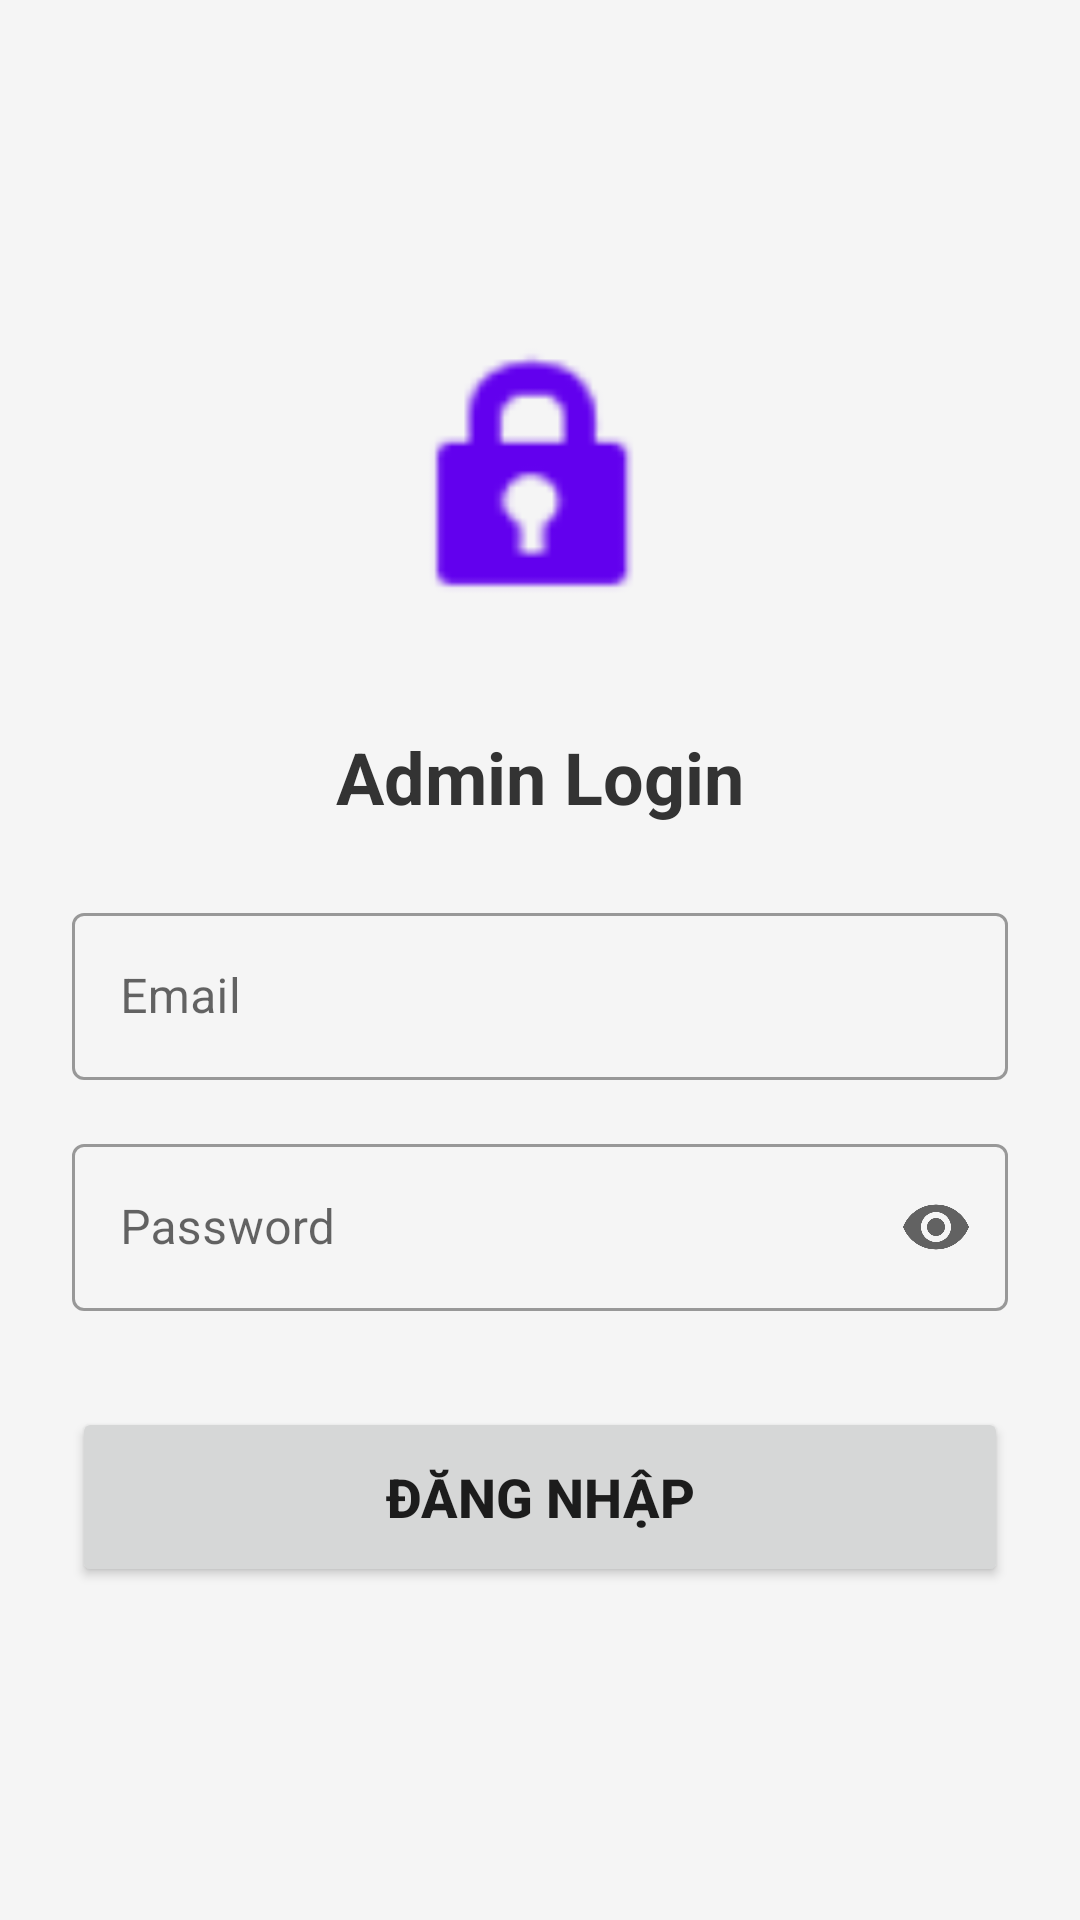

Point at icon controls on the screen. Image size 1080x1920, points as [x,y].
lock idle: [533,472]
